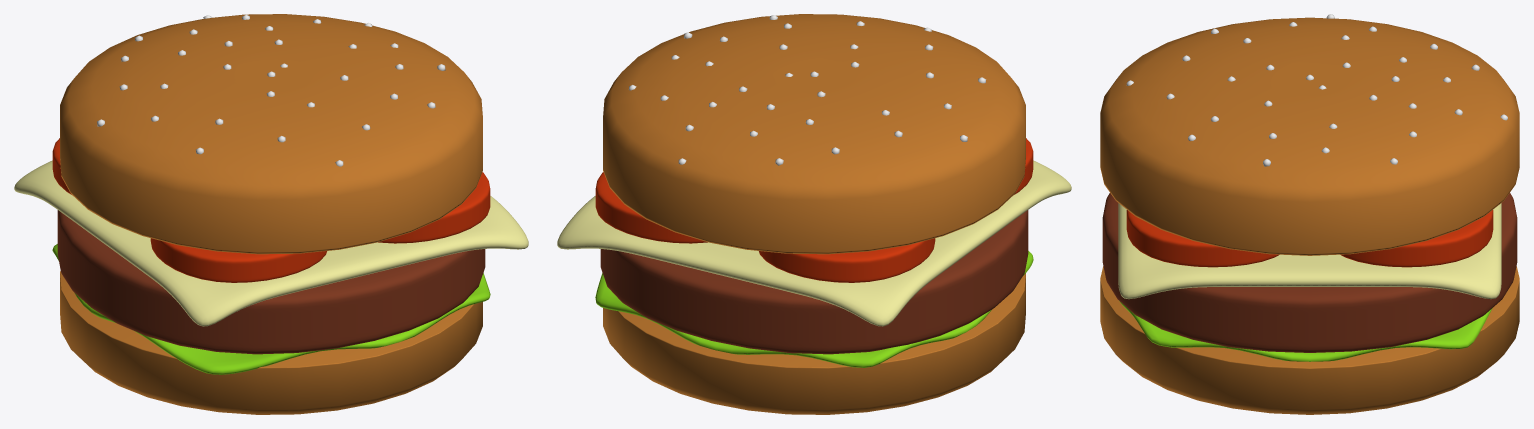
The model's file is Cheese Burger1.fbx.
3 renders of one model, left to right at view 1: azimuth 30°, elevation 25°; view 2: azimuth 150°, elevation 25°; view 3: azimuth 270°, elevation 25°, orthographic.
Visible parts, largest first — view 1: Cylinder, Cube, Cylinder.001, Plane.001, Cube.001, Plane; view 2: Cylinder, Cube, Cylinder.001, Plane.001, Cube.001, Plane; view 3: Cylinder, Cylinder.001, Cube, Plane.001, Cube.001, Plane.
Part boxes in pixels (bbox=[...]): Cylinder: bbox=[60, 14, 482, 254]; Cube: bbox=[57, 210, 485, 354]; Cylinder.001: bbox=[60, 271, 482, 414]; Plane.001: bbox=[14, 160, 528, 326]; Cube.001: bbox=[52, 138, 490, 282]; Plane: bbox=[52, 244, 490, 374]; Cylinder: bbox=[603, 14, 1025, 254]; Cube: bbox=[600, 210, 1028, 354]; Cylinder.001: bbox=[603, 273, 1025, 414]; Plane.001: bbox=[557, 160, 1071, 326]; Cube.001: bbox=[595, 138, 1033, 282]; Plane: bbox=[595, 251, 1033, 367]; Cylinder: bbox=[1100, 17, 1519, 255]; Cylinder.001: bbox=[1100, 266, 1519, 414]; Cube: bbox=[1102, 193, 1517, 352]; Plane.001: bbox=[1118, 203, 1501, 299]; Cube.001: bbox=[1126, 210, 1493, 267]; Plane: bbox=[1119, 301, 1492, 361].
Bounding box in the file's own units: 200 × 144 × 200.
